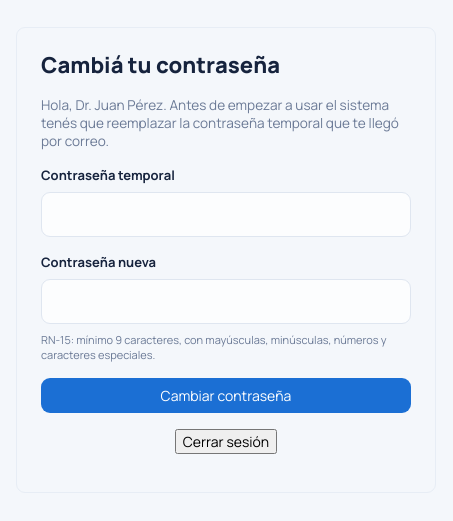
Test case: CambiarPassword › una contraseña temporal incorrecta muestra el error y no cambia la sesión
The width and height of the screenshot is (453, 521).
Step 1. Type "otra" into the password field labelled "Contraseña temporal" → (226, 214), box [41,192,411,236]
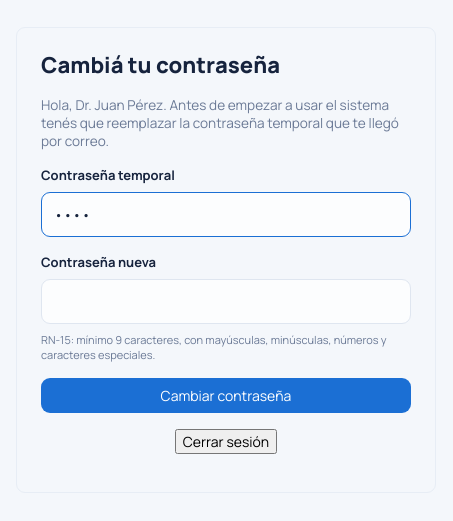
Step 2. Type "MiClave2026$" into the password field labelled "Contraseña nueva" → (226, 301), box [41,278,411,324]
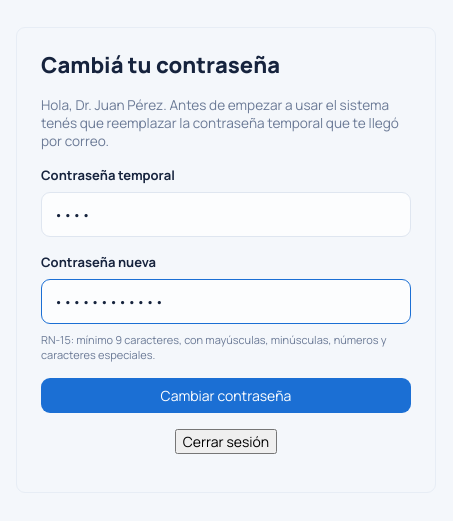
Step 3. Click the button "Cambiar contraseña" → click(226, 395), box [41,378,411,412]
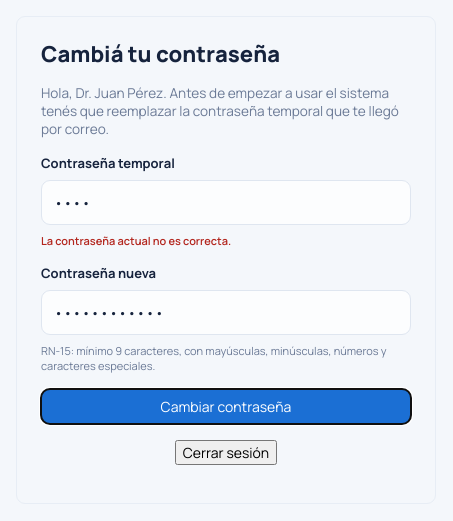
Check: the text "La contraseña actual no es correcta." is shown, box [41,233,231,248]
